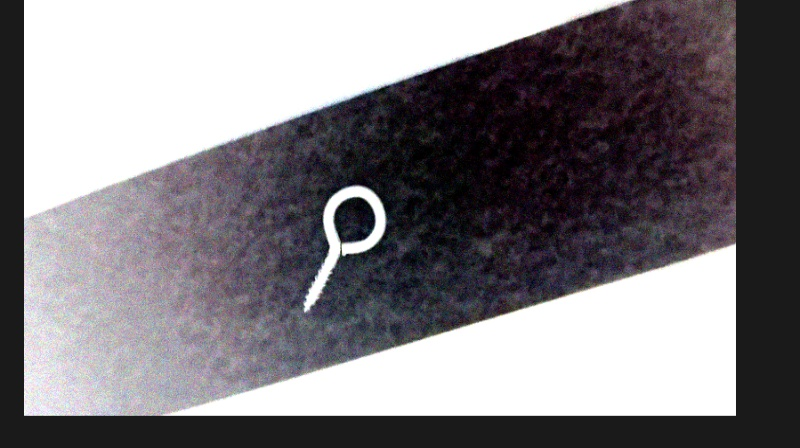O001: (299, 180, 389, 319)
